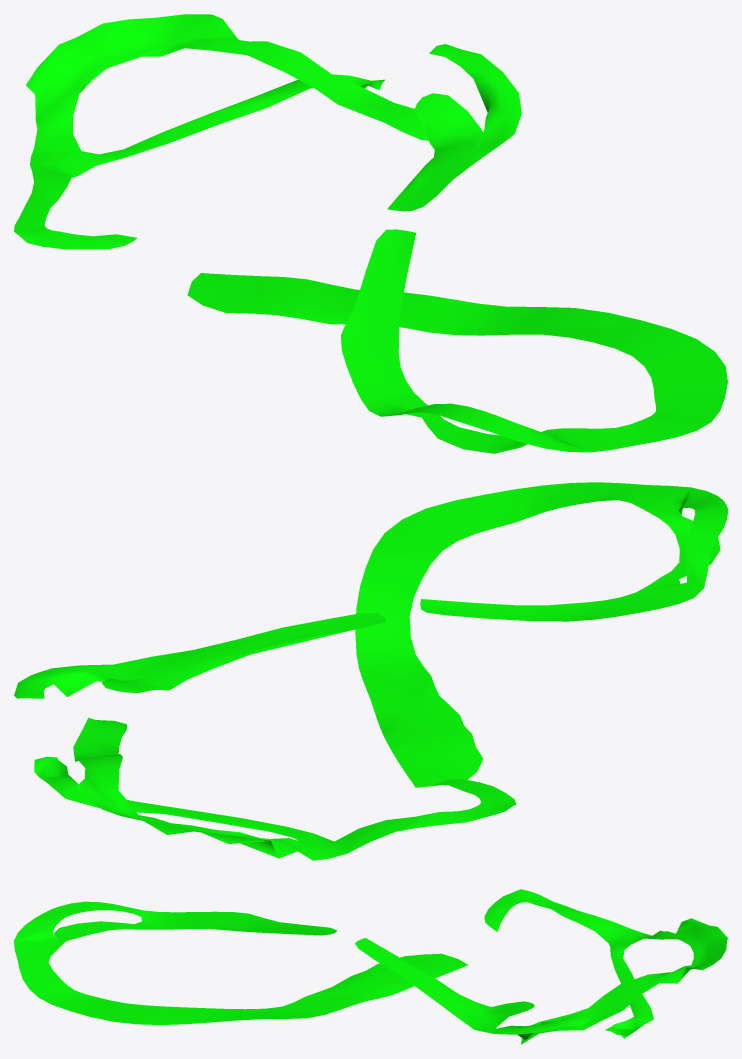
Rendered from MSH_C-Pista.FBX.
3 renders of one model, top to bottom at view 1: azimuth 30°, elevation 25°; view 2: azimuth 150°, elevation 25°; view 3: azimuth 270°, elevation 25°, orthographic. The views are drawn at different scales.
Visible parts, largest first — view 1: PISTA A_2; view 2: PISTA A_2; view 3: PISTA A_2.
Boxes of the visible parts, x1,y1,x2,y2 form: PISTA A_2: (14, 14, 727, 453); PISTA A_2: (14, 482, 727, 860); PISTA A_2: (14, 889, 727, 1044).
Size of the model in its own units: 7789 by 1421 by 14490.
